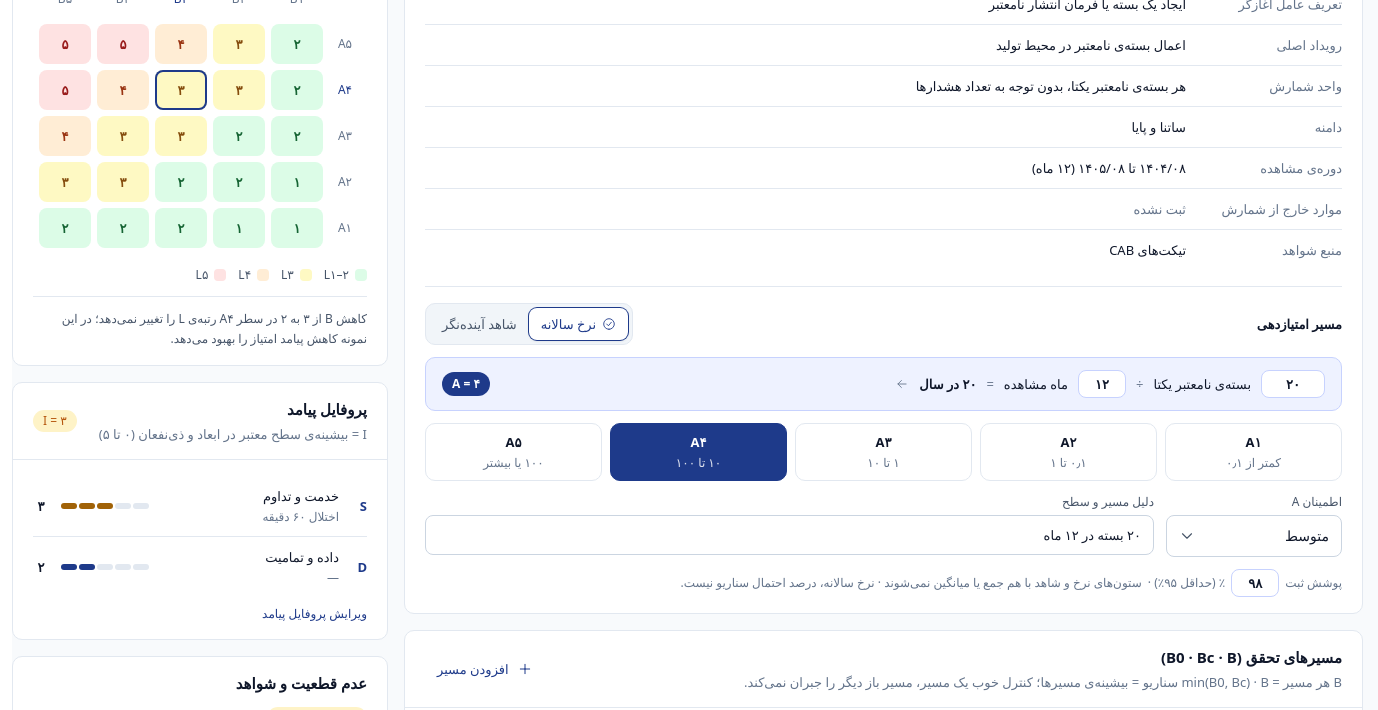
Test: AnalysisPage › warns about short data and shows the form's errors
(page scrolled)
Step 1. Replace the text in the field named "دوره‌ی مشاهده به ماه" with "6" → [1102, 384], box [1078,370,1126,398]
(page scrolled)
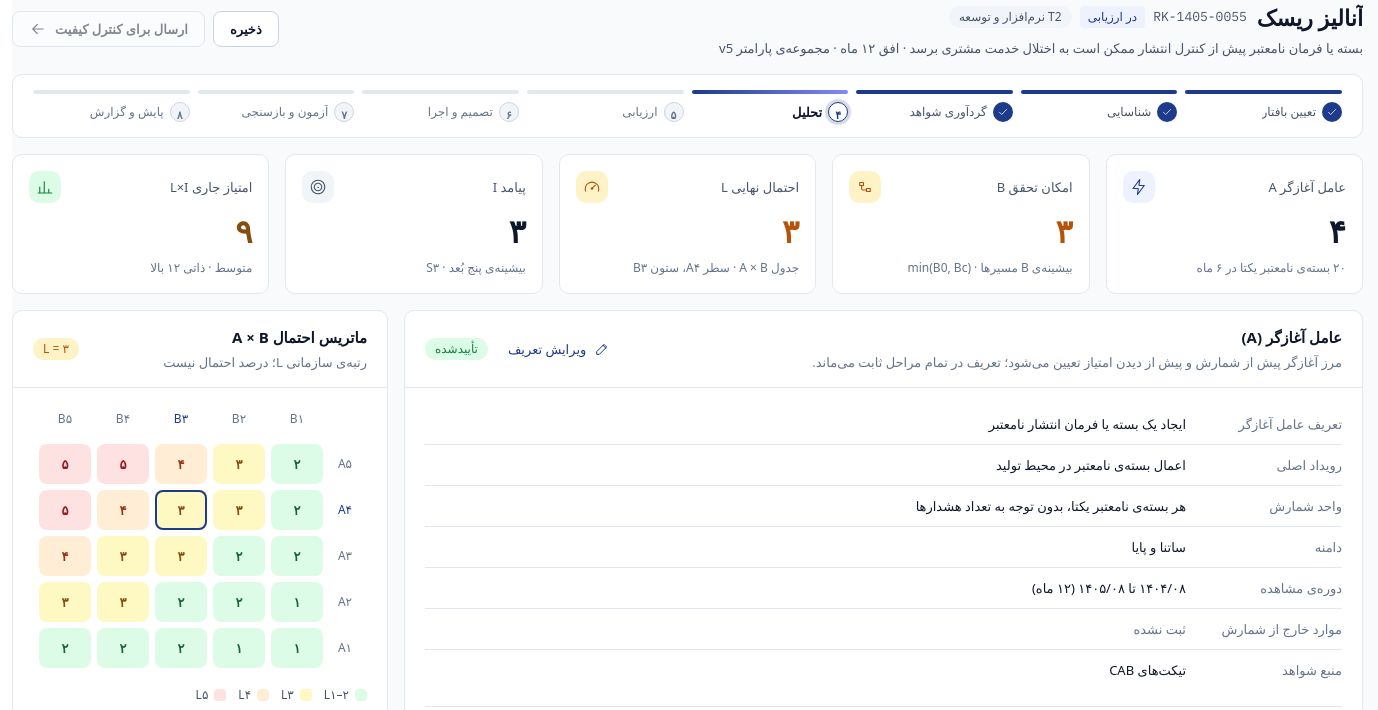
Step 2. Click the button "ذخیره" → [246, 29], box [213,11,279,47]
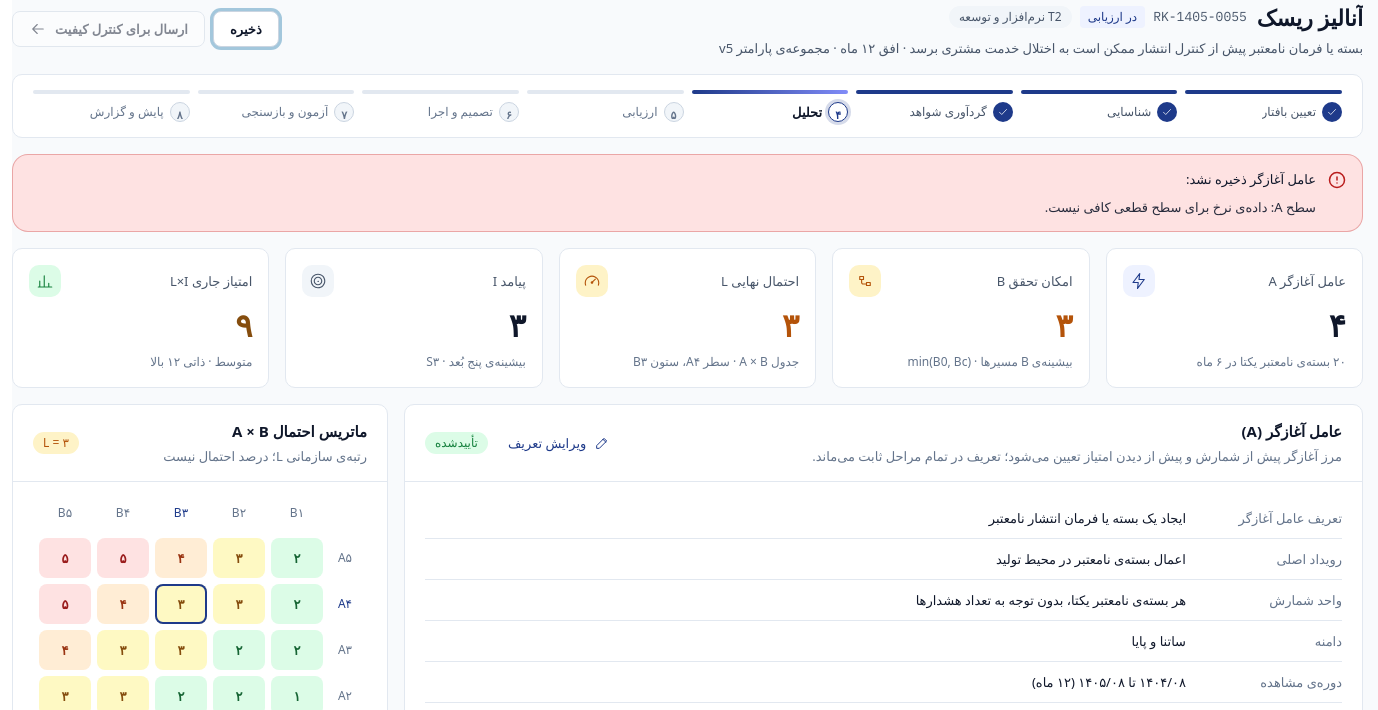
Check: the message shows "سطح A: داده‌ی نرخ برای سطح قطعی کافی نیست.", box [12,154,1363,232]
